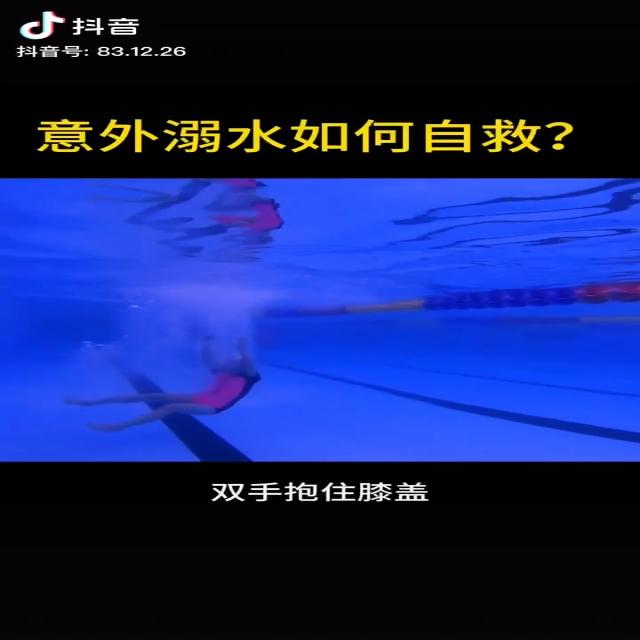Drowning: (64, 336, 264, 436)
